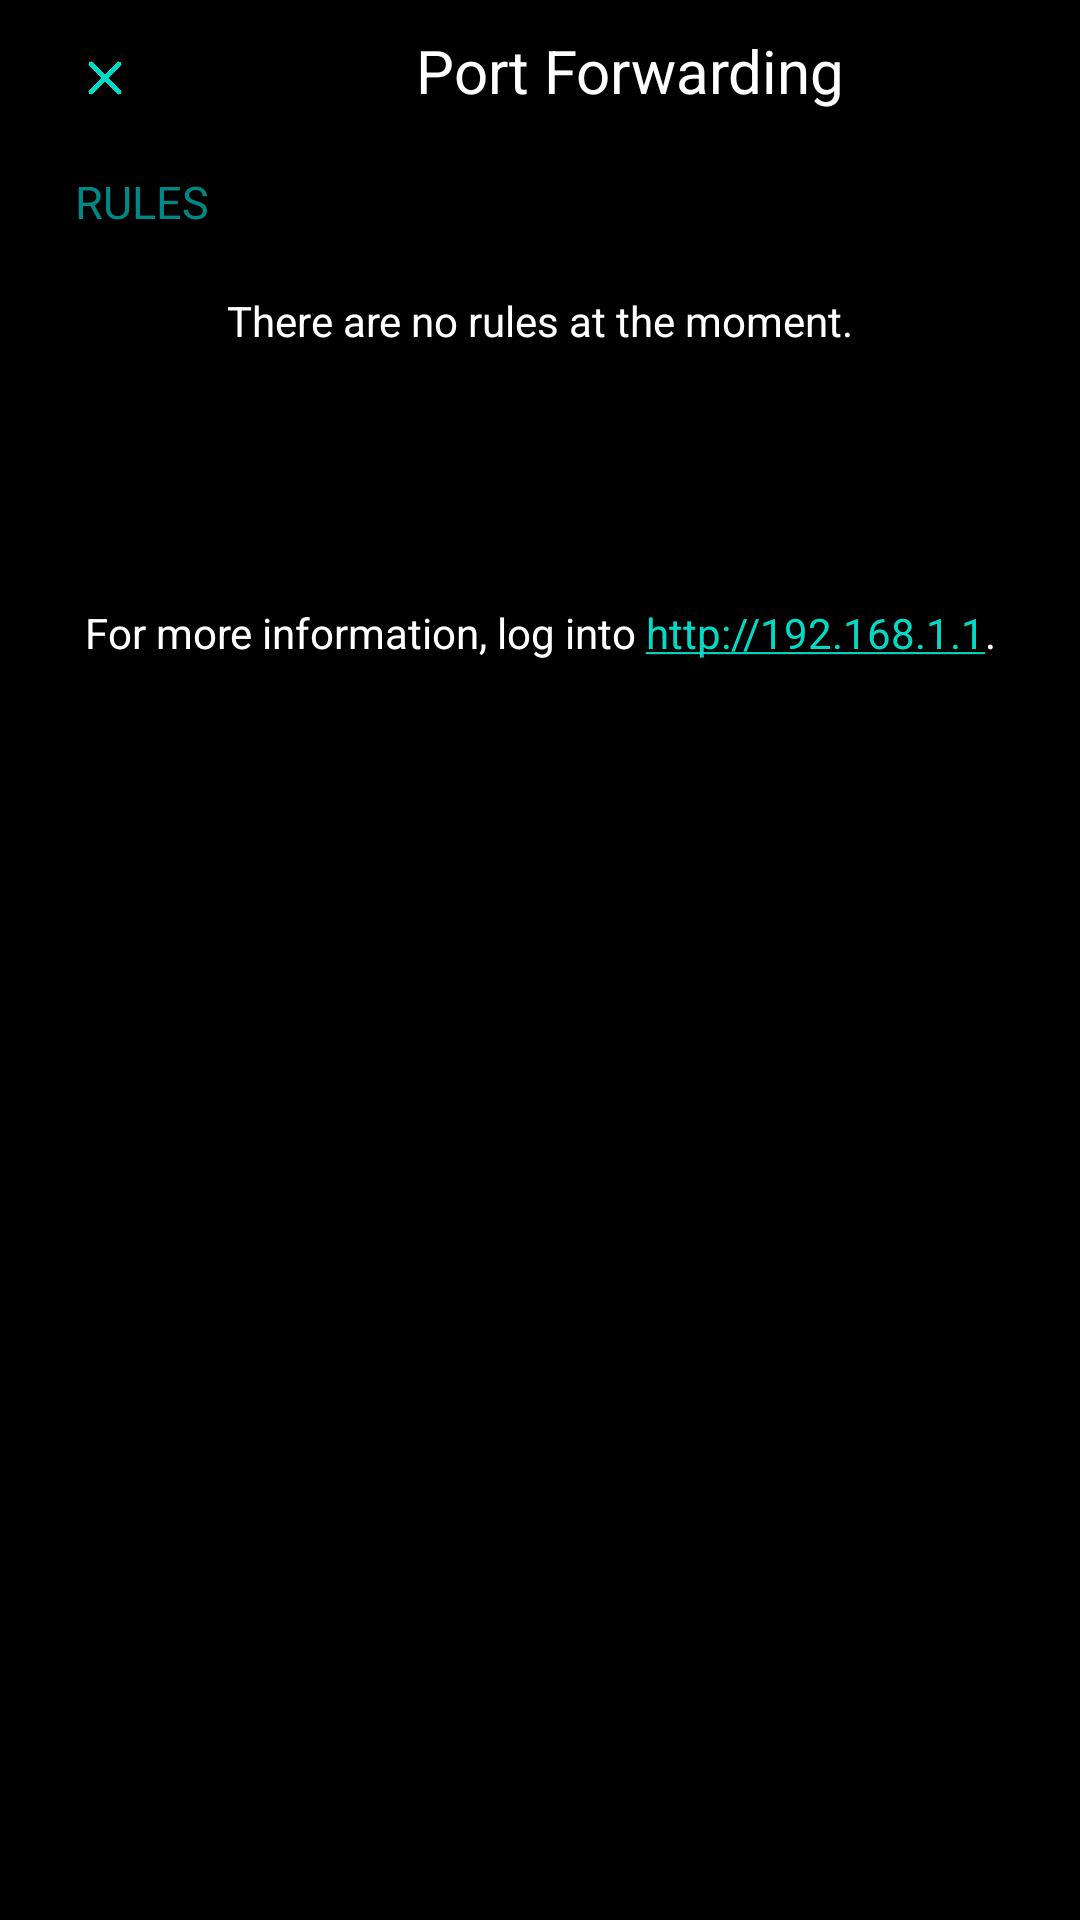

Where icons sit on this 1080 x 1920 app screen, as (x1, y1, x2, y2):
cross: (88, 61, 122, 95)
